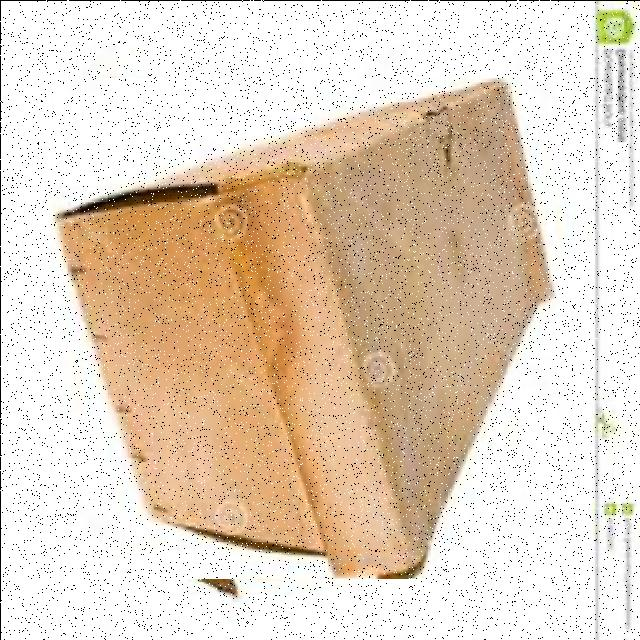defect: (52, 77, 556, 578)
